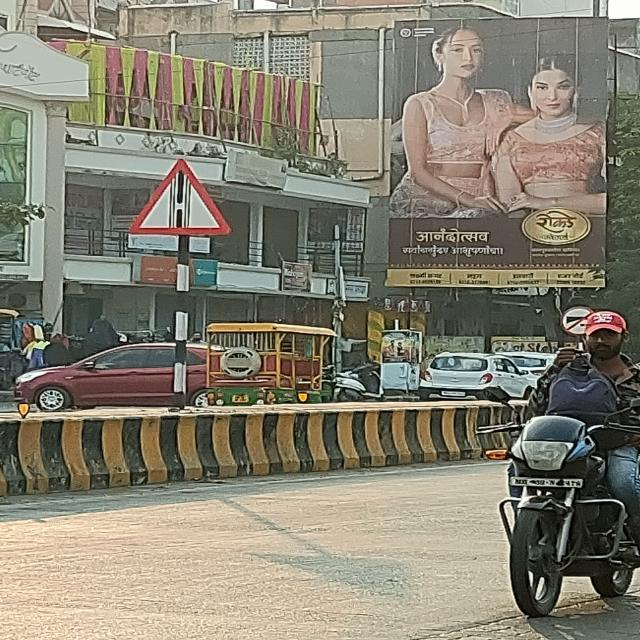gap in median: (127, 157, 234, 236)
